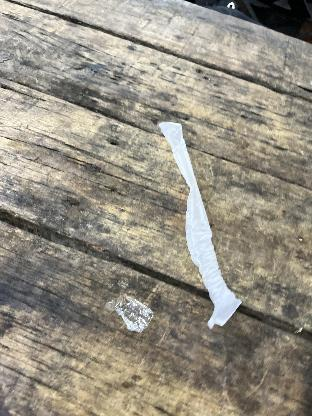Others: (156, 116, 256, 328), (116, 299, 156, 333)
